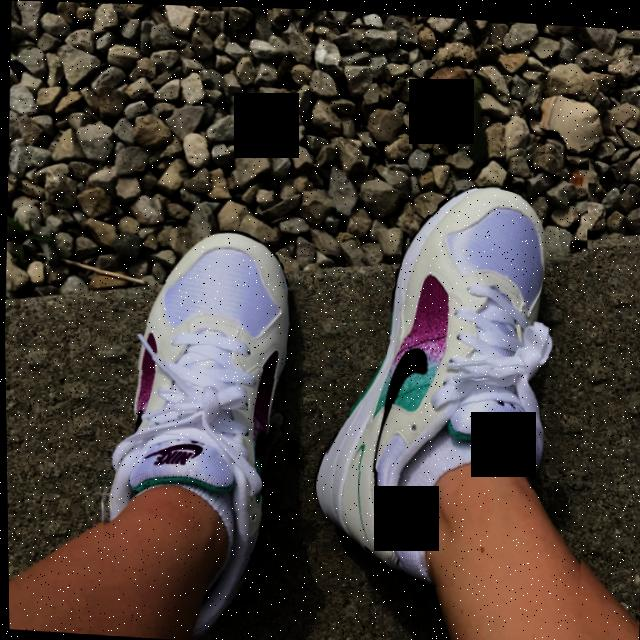shoe: (315, 126, 593, 593), (85, 163, 294, 640)
